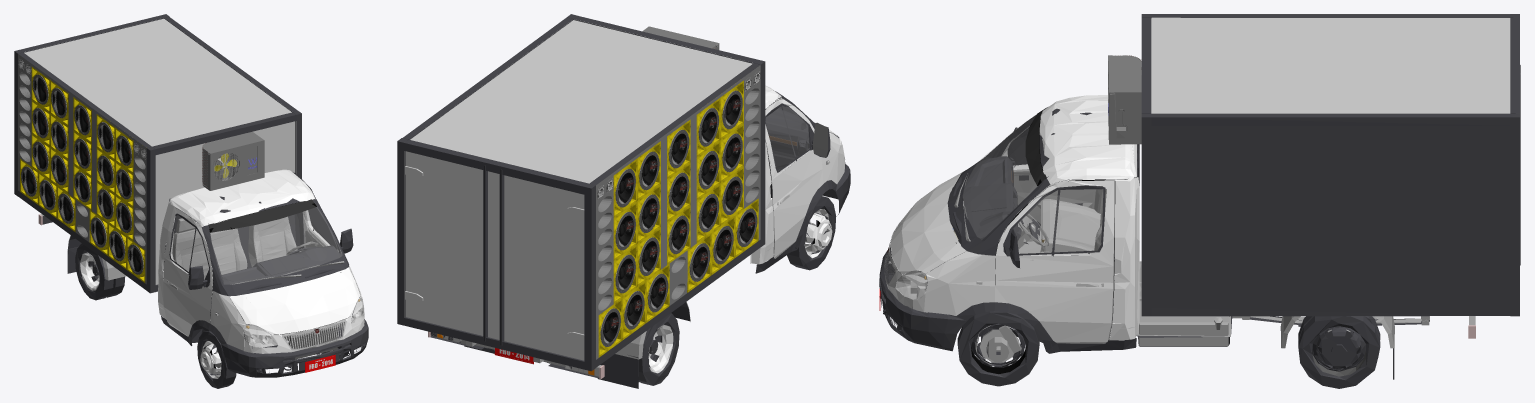
The model's file is caminhao_neutro.glb.
3 views of the same model, side by side, from view 1: azimuth 30°, elevation 25°; view 2: azimuth 150°, elevation 25°; view 3: azimuth 270°, elevation 25° (orthographic). The views are drawn at different scales.
Size of what is drawn, in the model's own units: 1.88 by 2.23 by 4.6.
Materials: 80 (14 with a texture image).
